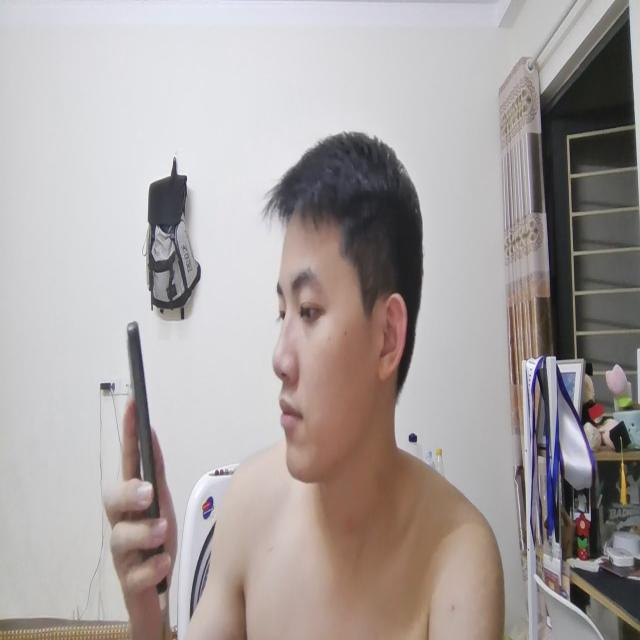phone: (111, 305, 177, 591)
student: (225, 121, 498, 640)
